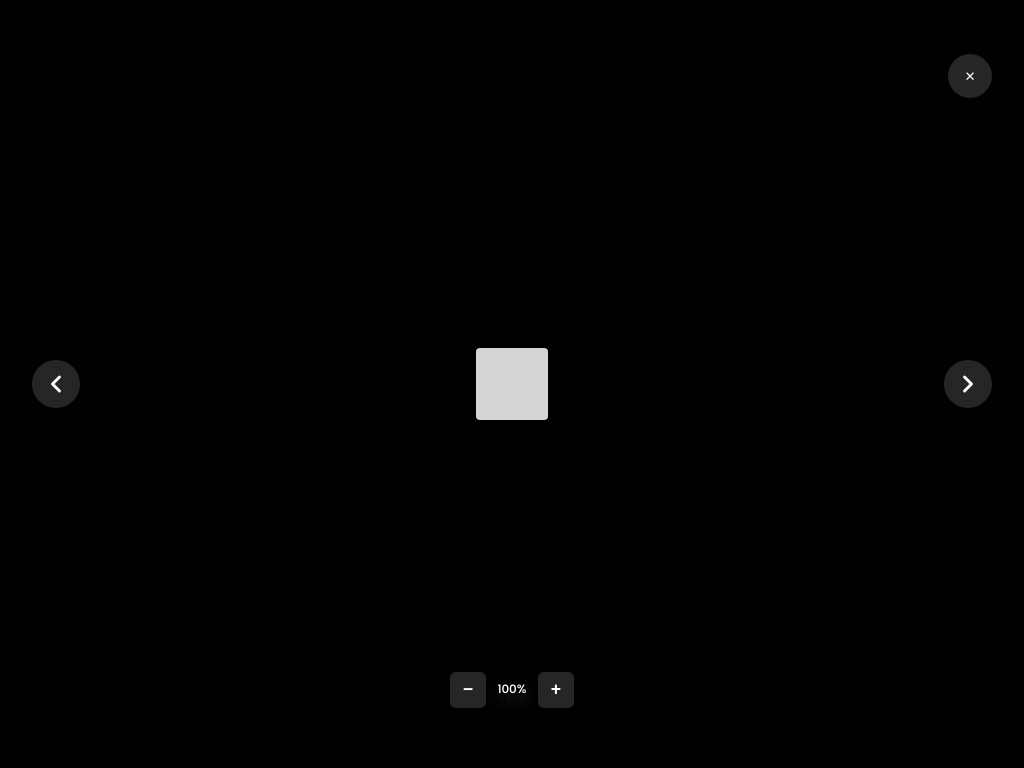
ImageLightbox — zoom (opt-in core behavior) › resets zoom when navigating between images
This screenshot has width=1024, height=768.
Click the button named "Zoom in". click: (556, 690)
box: [538,672,574,708]
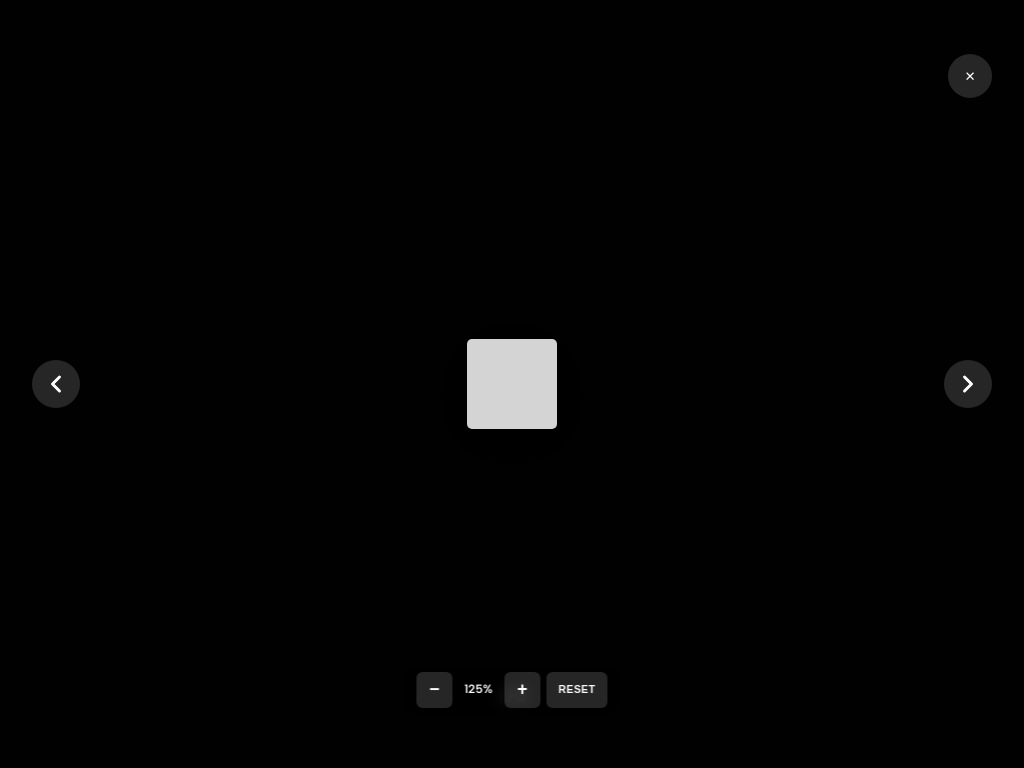
Expected: the text "125%" is shown, [464,682,492,696]
Click the button named "next image for". click: (968, 384)
box: [944,360,992,408]
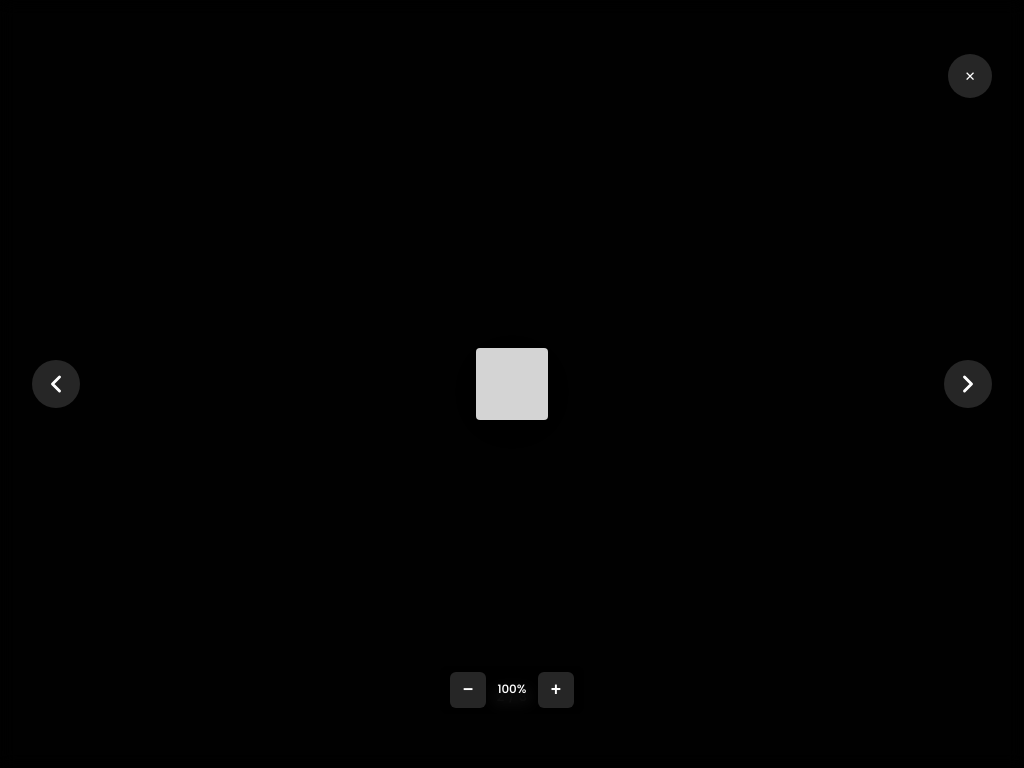
Expected: the text "100%" is shown, [498,682,526,696]
